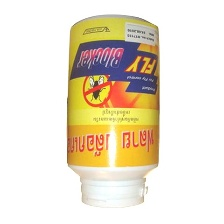insecticide: (62, 10, 165, 211)
